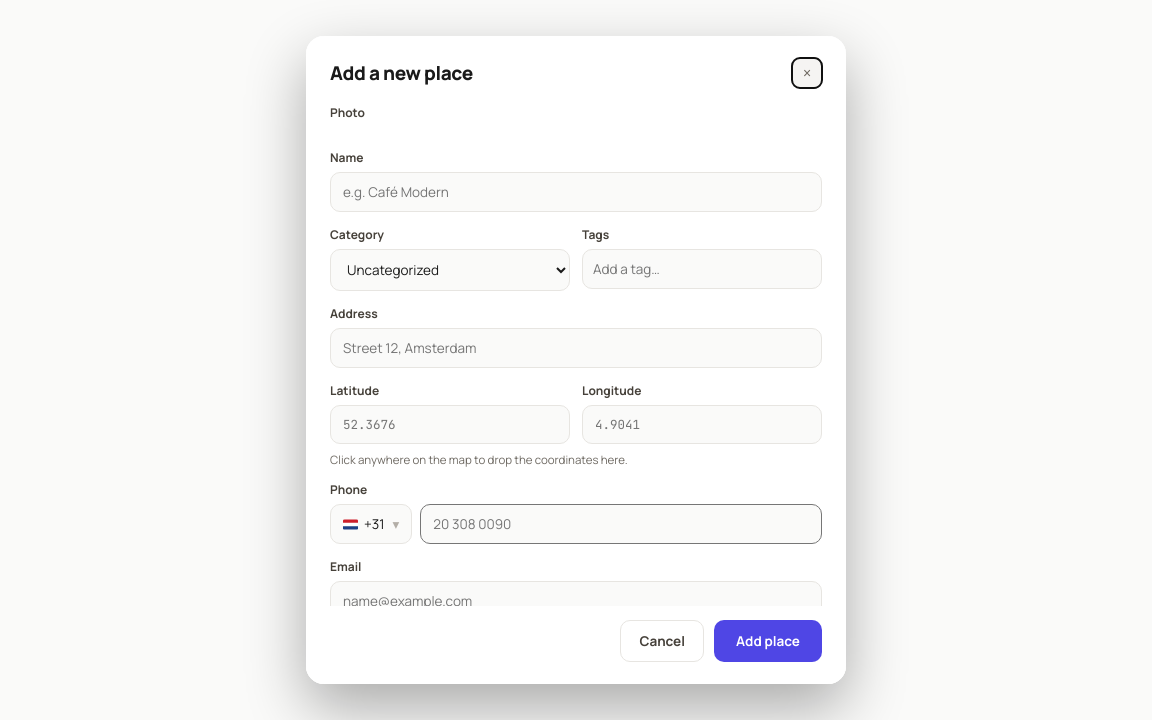
Scenario: PoiFormModal › splits a pasted 'lat, lng' pair across both coordinate fields
This screenshot has width=1152, height=720.
Type "52.3676, 4.9041" into the field labelled "Latitude" at (450, 424), box [330,405,570,444]
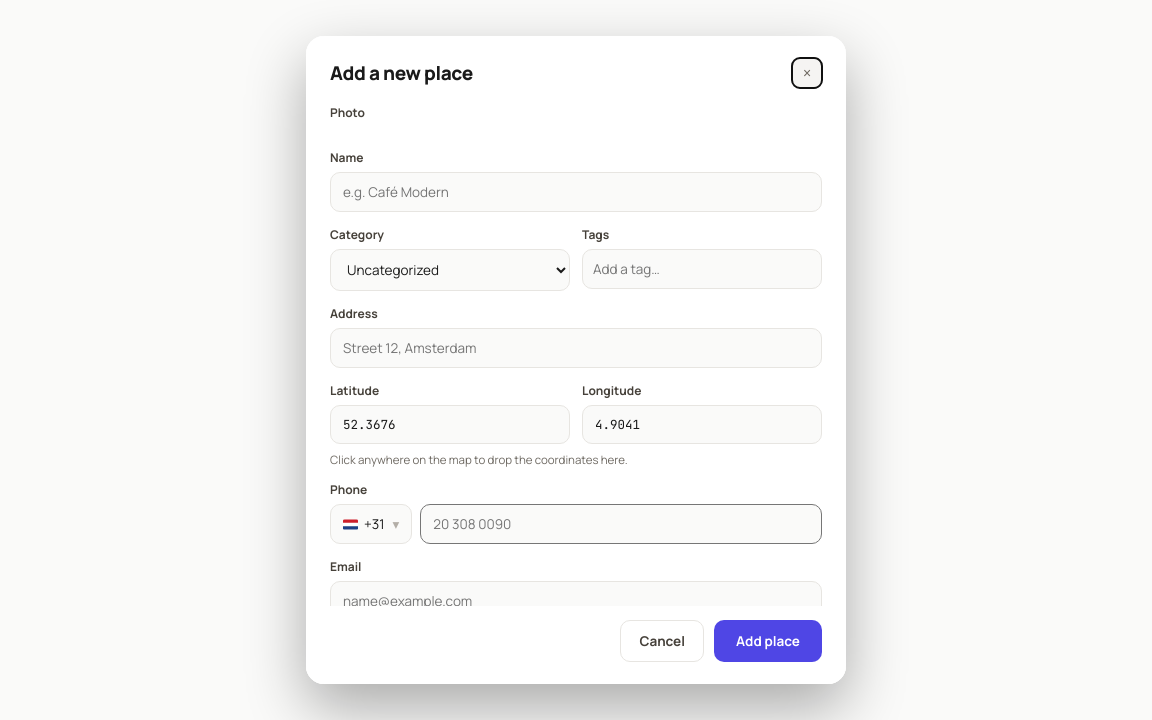
Now the field labelled "Latitude" holds "52.3676", box [330,405,570,444]
Now the field labelled "Longitude" holds "4.9041", box [582,405,822,444]
